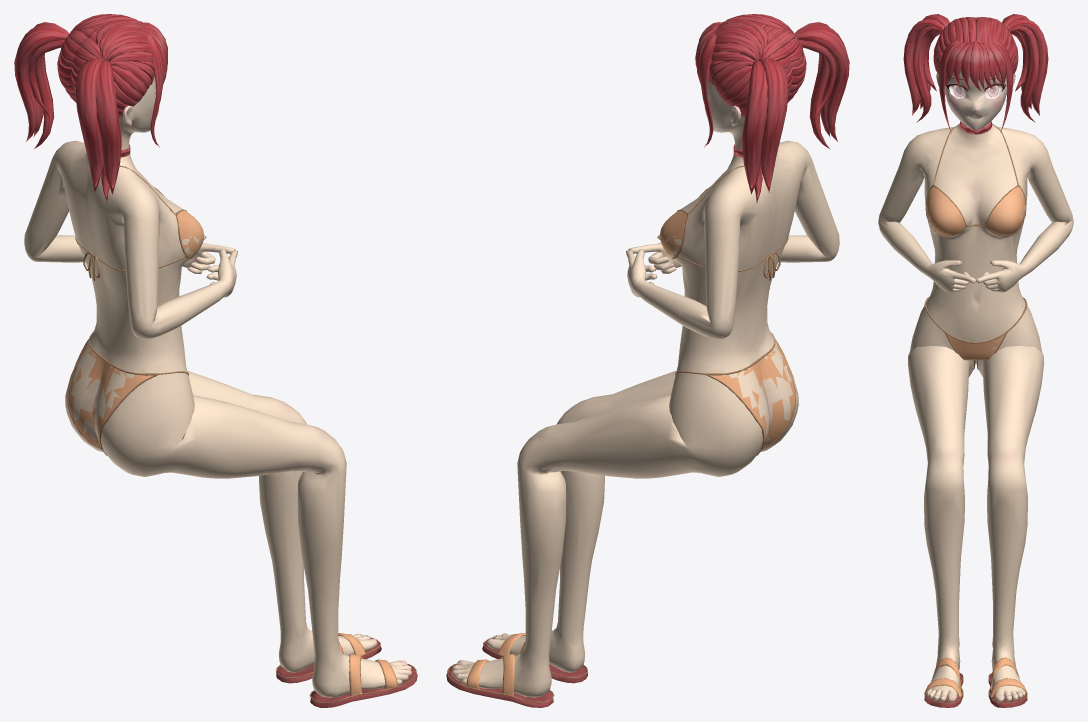
The model's file is anime_girl_sedi.glb.
3 views of the same model, side by side, from view 1: azimuth 30°, elevation 25°; view 2: azimuth 150°, elevation 25°; view 3: azimuth 270°, elevation 25° (orthographic). The views are drawn at different scales.
Bounding box in the file's own units: 0.6855 × 1.34 × 0.4095.
Materials: 4 (4 with a texture image).
